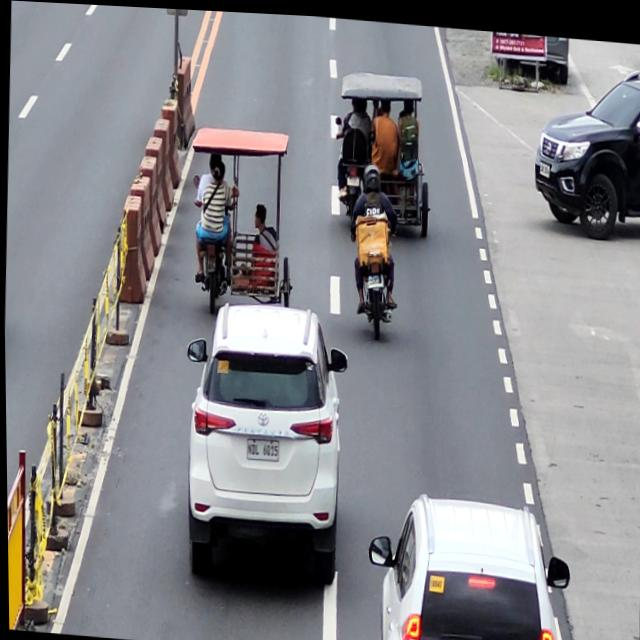Car: (175, 295, 351, 585), (361, 484, 571, 640), (529, 52, 640, 237)
License-Plate: (244, 436, 278, 458), (364, 269, 385, 288), (537, 156, 551, 171)
Motorcycle: (346, 195, 401, 337)
Tricycle: (184, 120, 297, 322), (332, 64, 435, 236)
